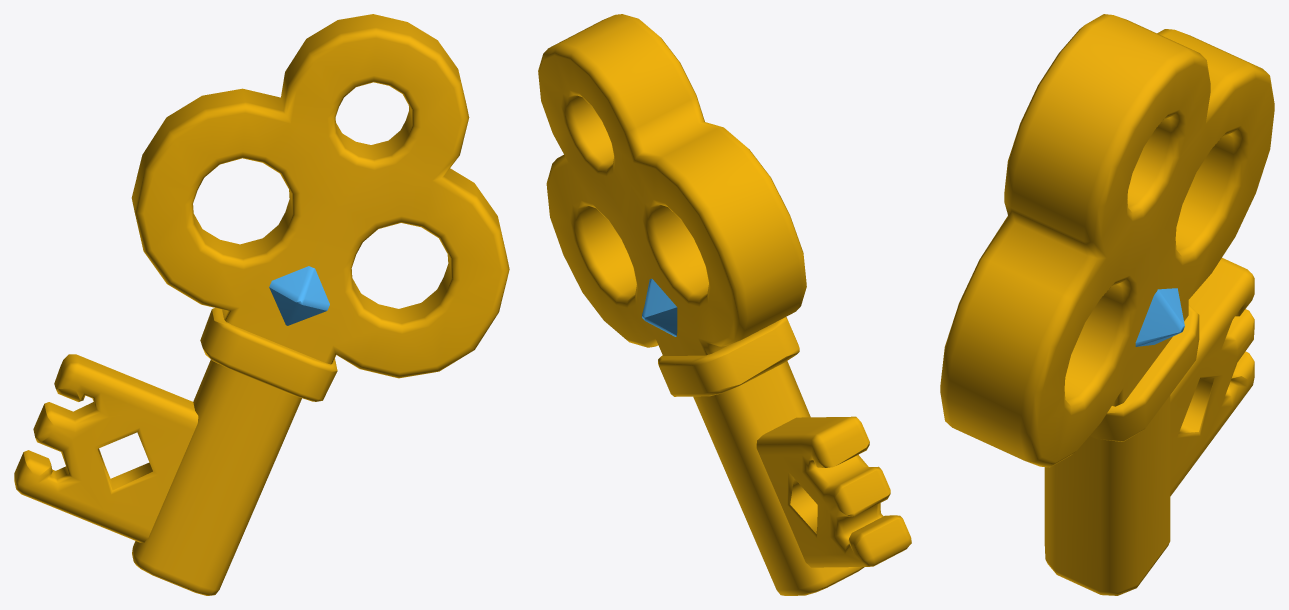
3 renders of one model, left to right at view 1: azimuth 30°, elevation 25°; view 2: azimuth 150°, elevation 25°; view 3: azimuth 270°, elevation 25°, orthographic. The views are drawn at different scales.
Visible parts, largest first — view 1: model_1.104; view 2: model_1.104; view 3: model_1.104.
Part boxes in pixels (x1,y1,x2,y2): model_1.104: [14, 14, 509, 595]; model_1.104: [538, 14, 911, 595]; model_1.104: [940, 14, 1274, 595].
Bounding box in the file's own units: 4.06 × 4.8 × 2.17.
